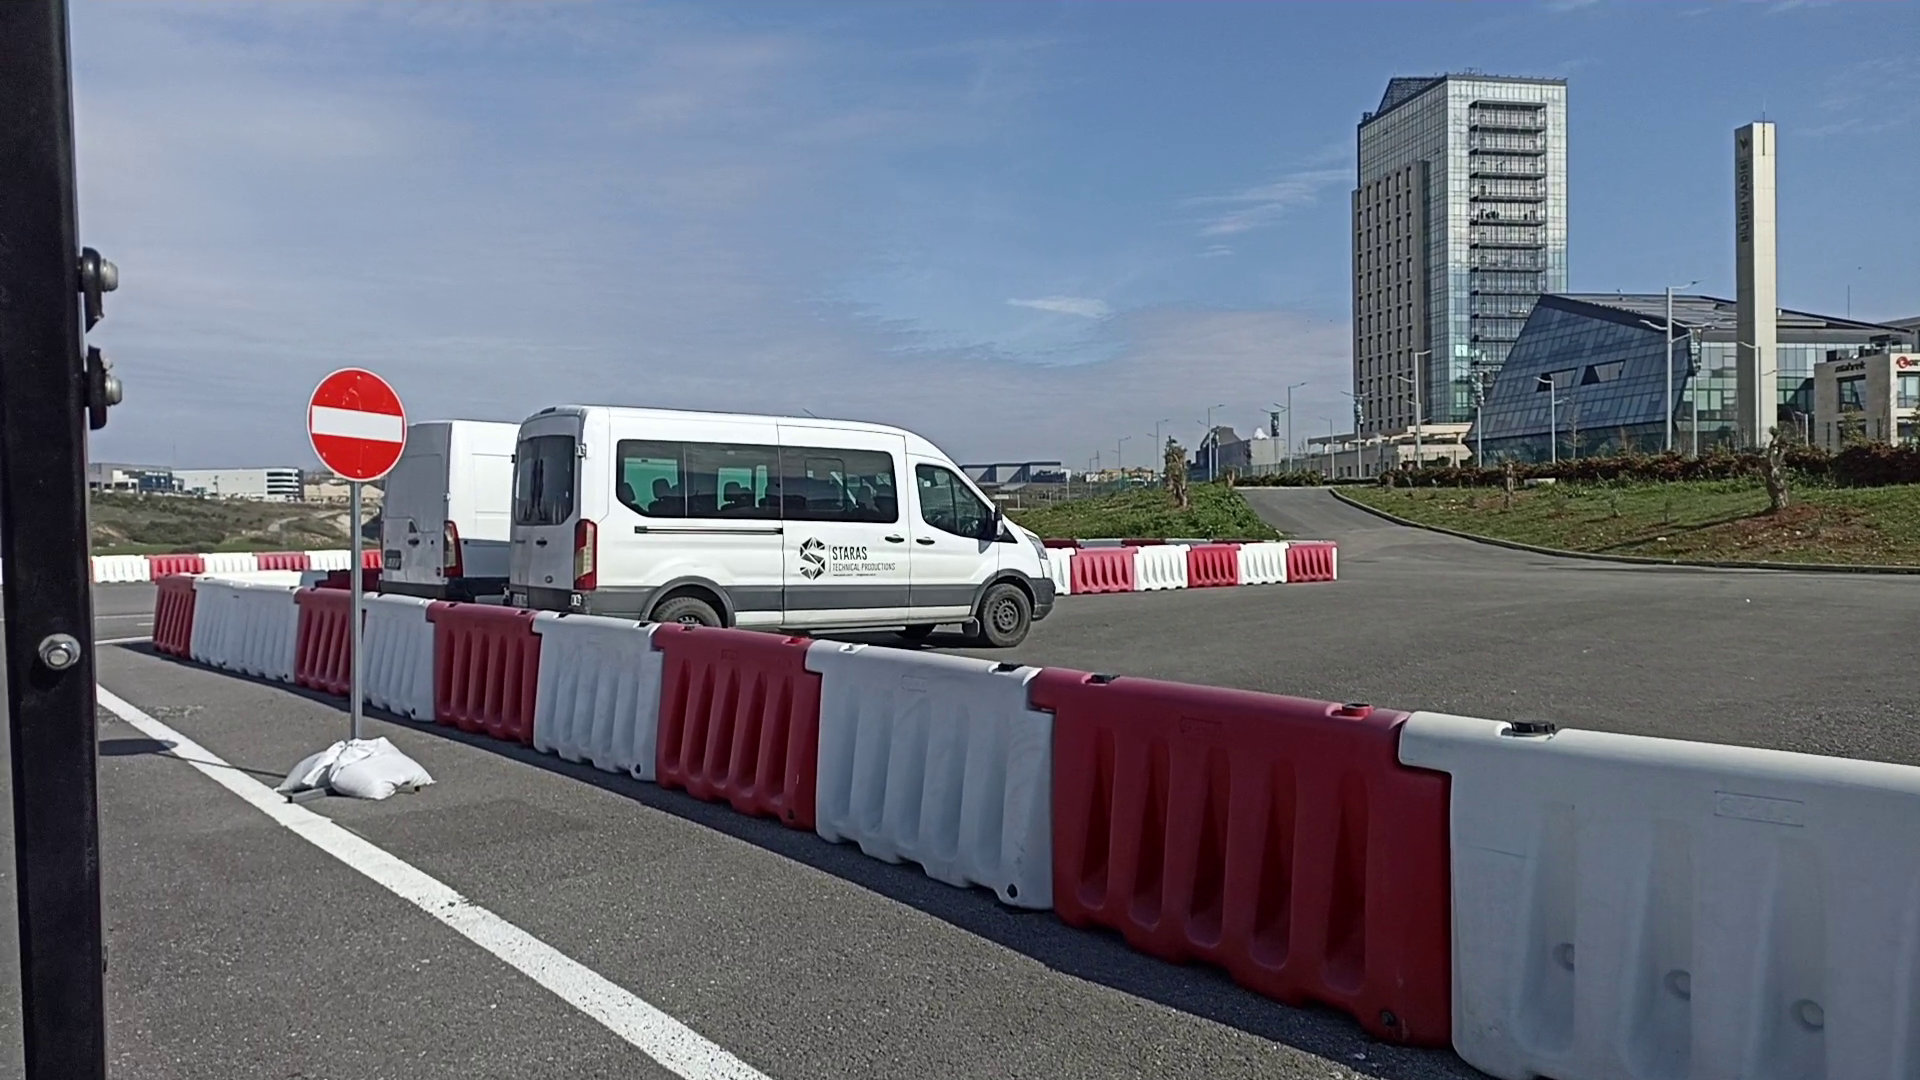noentryway: (306, 367, 409, 484)
